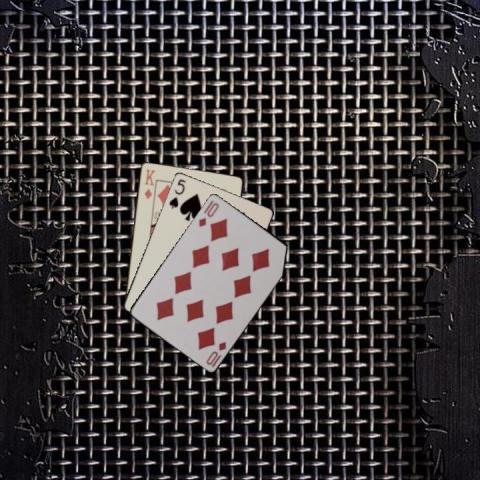10d: (204, 338, 228, 369), (195, 199, 220, 228)
5s: (166, 176, 187, 210)
Kd: (141, 166, 157, 201)
